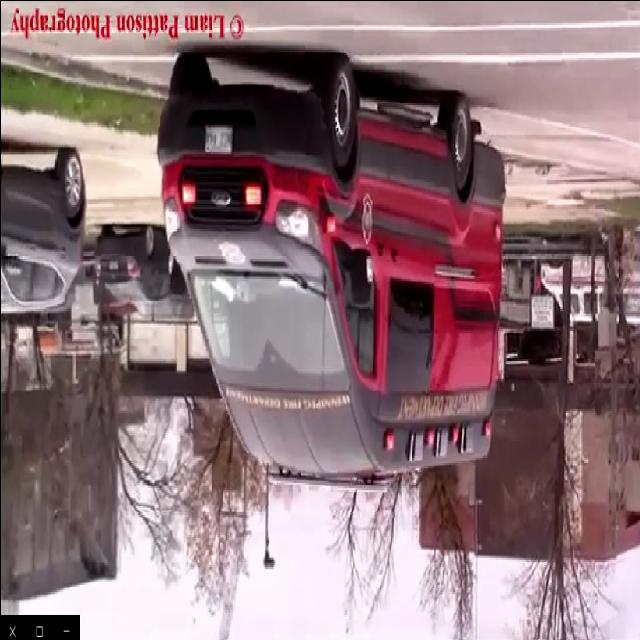emergency: (155, 58, 508, 488)
